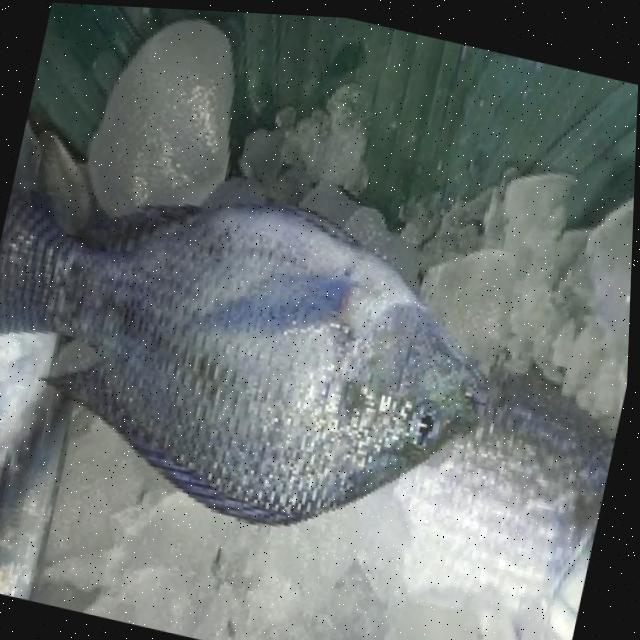Fresh: (27, 148, 537, 576)
